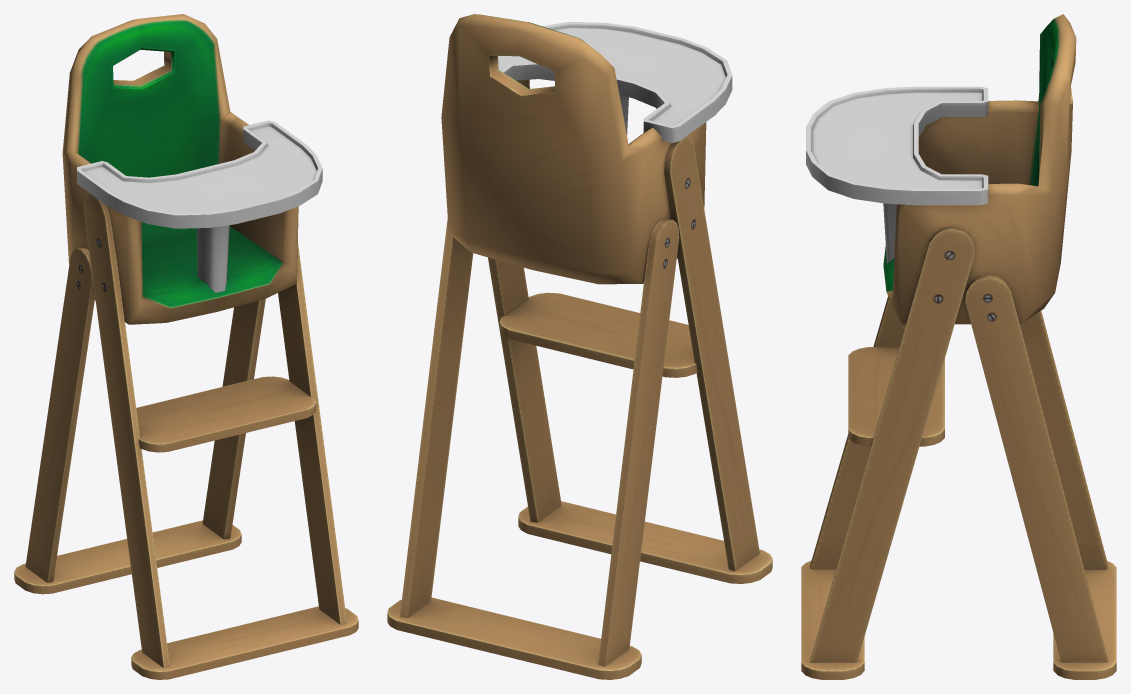
File: highChair.fbx
The picture shows the model from 3 angles, left to right: view 1: azimuth 30°, elevation 25°; view 2: azimuth 150°, elevation 25°; view 3: azimuth 270°, elevation 25°; orthographic projection. The views are drawn at different scales.
Visible parts, largest first — view 1: highChair; view 2: highChair; view 3: highChair.
Boxes of the visible parts, box(x1,y1,x2,y2) form: highChair: box(14, 14, 358, 679); highChair: box(387, 14, 772, 679); highChair: box(801, 14, 1116, 679).
Size of the model in its own units: 42.22 by 49.85 by 103.
